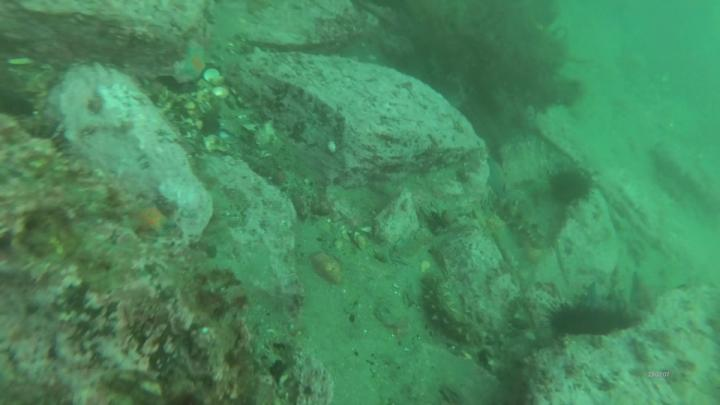echinus: (549, 305, 624, 334), (553, 173, 590, 202)
holothurian: (425, 278, 484, 343), (492, 191, 545, 248)
starfish: (126, 205, 175, 237), (184, 46, 206, 76)
waterweeds: (396, 2, 587, 112)
